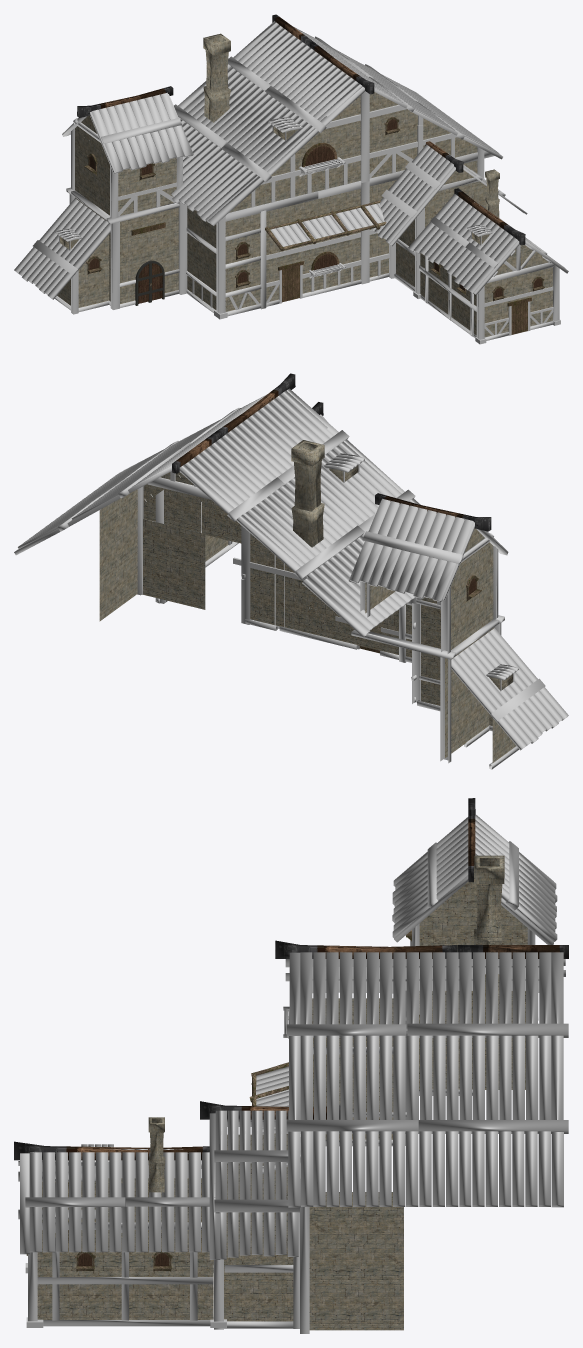
The model's file is house1.FBX.
3 renders of one model, top to bottom at view 1: azimuth 30°, elevation 25°; view 2: azimuth 150°, elevation 25°; view 3: azimuth 270°, elevation 25°, orthographic. The views are drawn at different scales.
Parts seen in each view (by area): view 1: Object825; view 2: Object825; view 3: Object825.
Boxes of the visible parts, left/top/right/bottom form: Object825: left=14, top=14, right=568, bottom=344; Object825: left=14, top=373, right=568, bottom=769; Object825: left=14, top=798, right=568, bottom=1333.
Bounding box in the file's own units: 3019 × 1549 × 2357.
